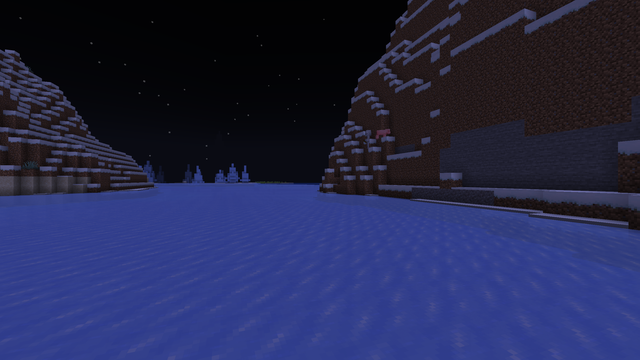cochons: (375, 129, 387, 139)
squelettes: (364, 129, 371, 148)
